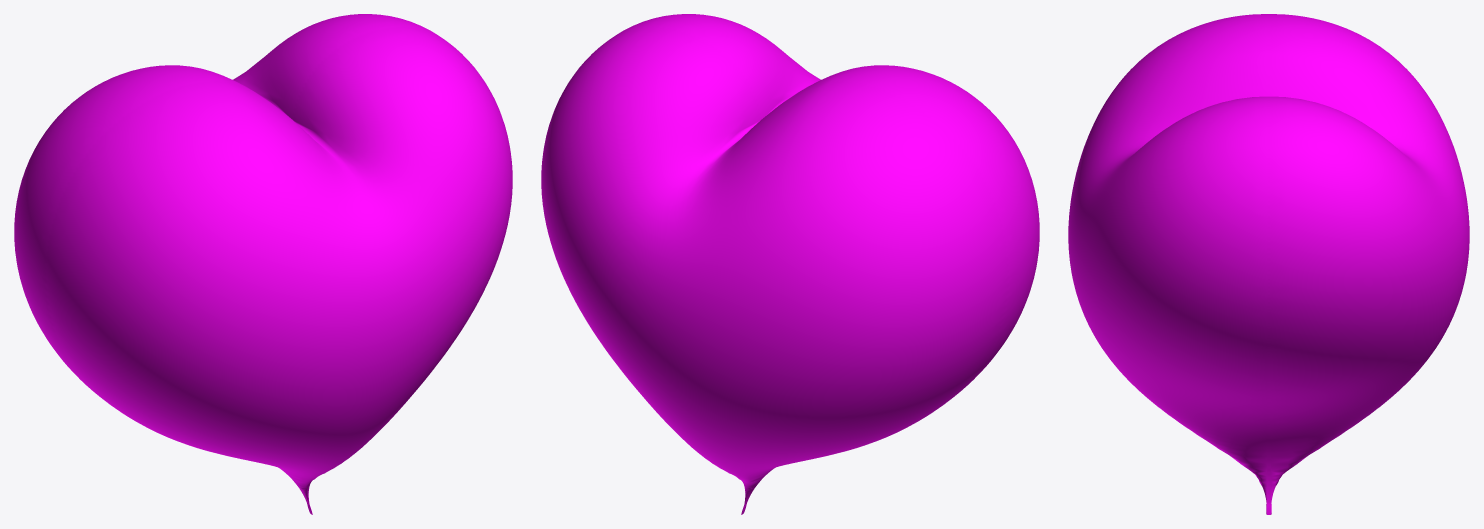
File: oetc2026Asset 5heart-pink.gltf
3 renders of one model, left to right at view 1: azimuth 30°, elevation 25°; view 2: azimuth 150°, elevation 25°; view 3: azimuth 270°, elevation 25°, orthographic. The views are drawn at different scales.
Size of the model in its own units: 0.4476 by 0.4565 by 0.3787.
